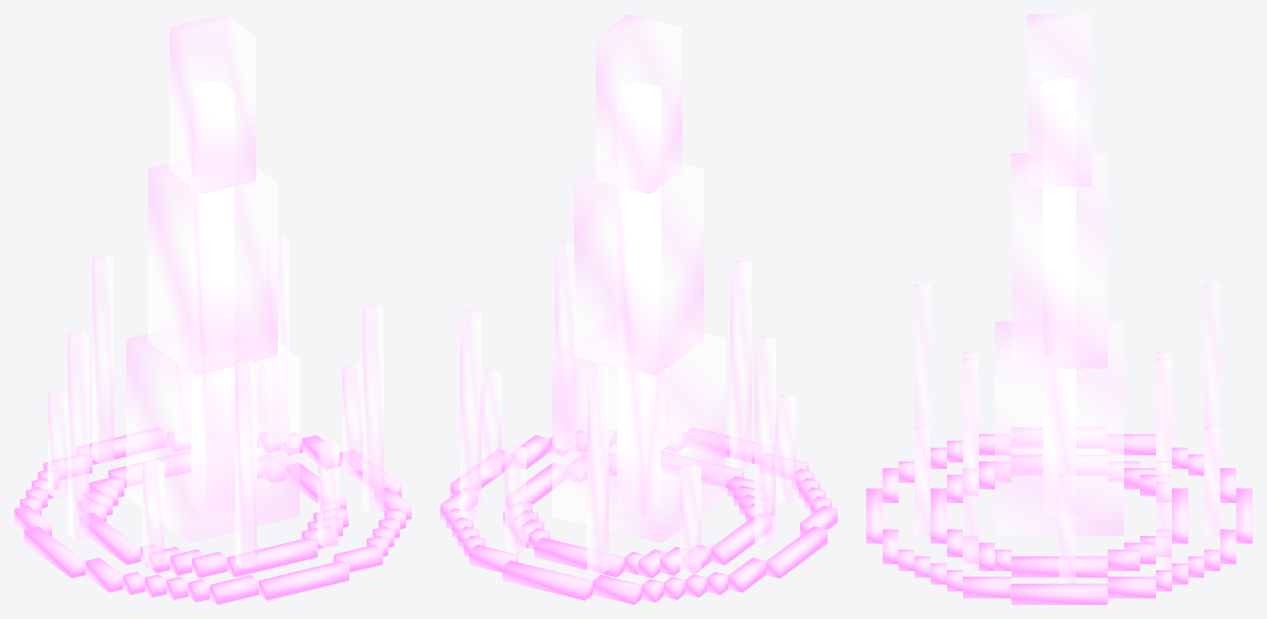
The model's file is teleport.glb.
3 renders of one model, left to right at view 1: azimuth 30°, elevation 25°; view 2: azimuth 150°, elevation 25°; view 3: azimuth 270°, elevation 25°, orthographic.
Parts seen in each view (by area): view 1: layer.column, layer.ring, layer.core; view 2: layer.column, layer.ring, layer.core; view 3: layer.column, layer.ring, layer.core.
Part boxes in pixels (x1,y1,x2,y2): layer.column: (47,14,384,568); layer.ring: (14,427,411,604); layer.core: (191,80,234,515); layer.column: (460,14,796,574); layer.ring: (440,427,837,604); layer.core: (617,80,660,515); layer.column: (914,14,1220,583); layer.ring: (866,427,1252,604); layer.core: (1043,79,1075,515).
Size of the model in its own units: 1.5 by 2.12 by 1.5.
